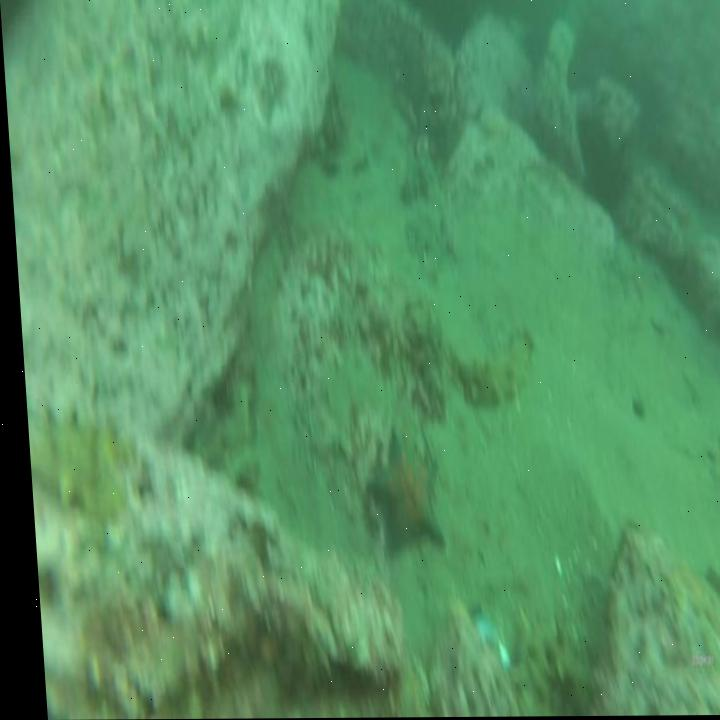holothurian: (21, 398, 131, 518), (452, 324, 536, 415)
starfish: (354, 423, 439, 558)
